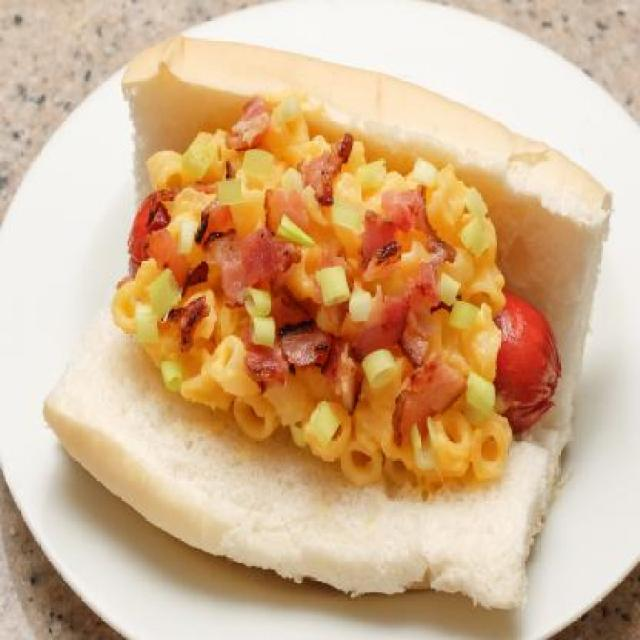hot dog: (488, 282, 567, 442), (131, 182, 174, 286)
macaroni and cheese: (170, 95, 495, 498)
